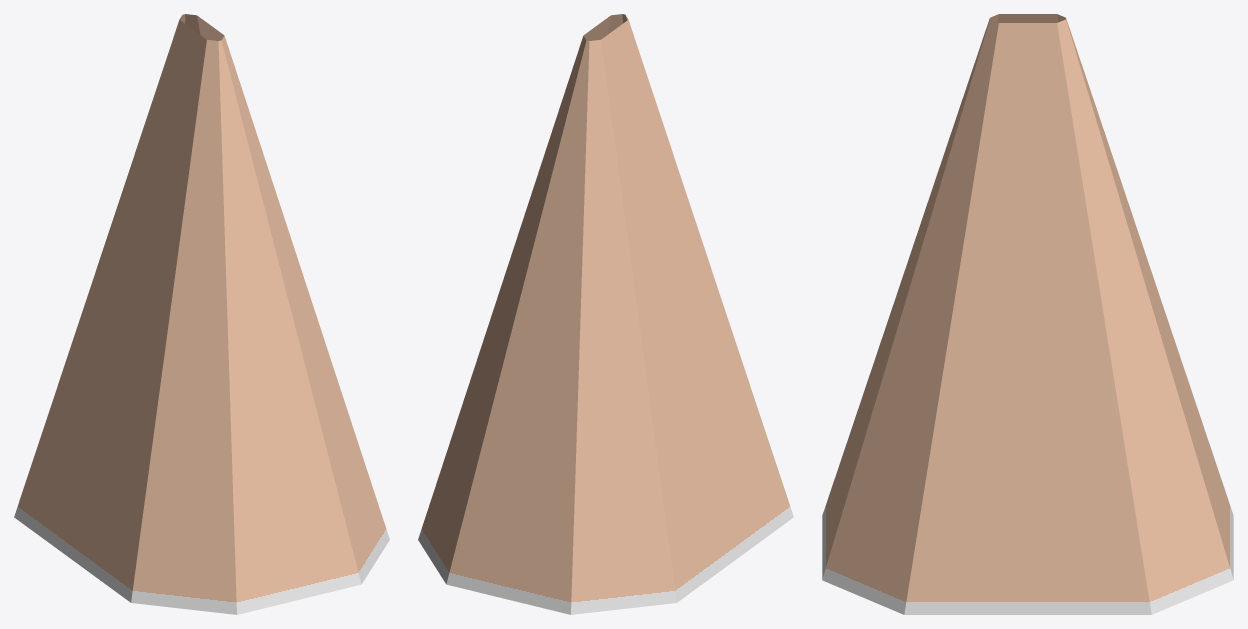
Rendered from LightCone.fbx.
3 renders of one model, left to right at view 1: azimuth 30°, elevation 25°; view 2: azimuth 150°, elevation 25°; view 3: azimuth 270°, elevation 25°, orthographic. The views are drawn at different scales.
Parts seen in each view (by area): view 1: LightCone.001; view 2: LightCone.001; view 3: LightCone.001.
Part boxes in pixels (box(x1,y1,x2,y2)): LightCone.001: box(14, 14, 389, 614); LightCone.001: box(418, 14, 793, 614); LightCone.001: box(822, 14, 1233, 614).
Size of the model in its own units: 433 by 563 by 800.
Materials: 1 (1 with a texture image).
